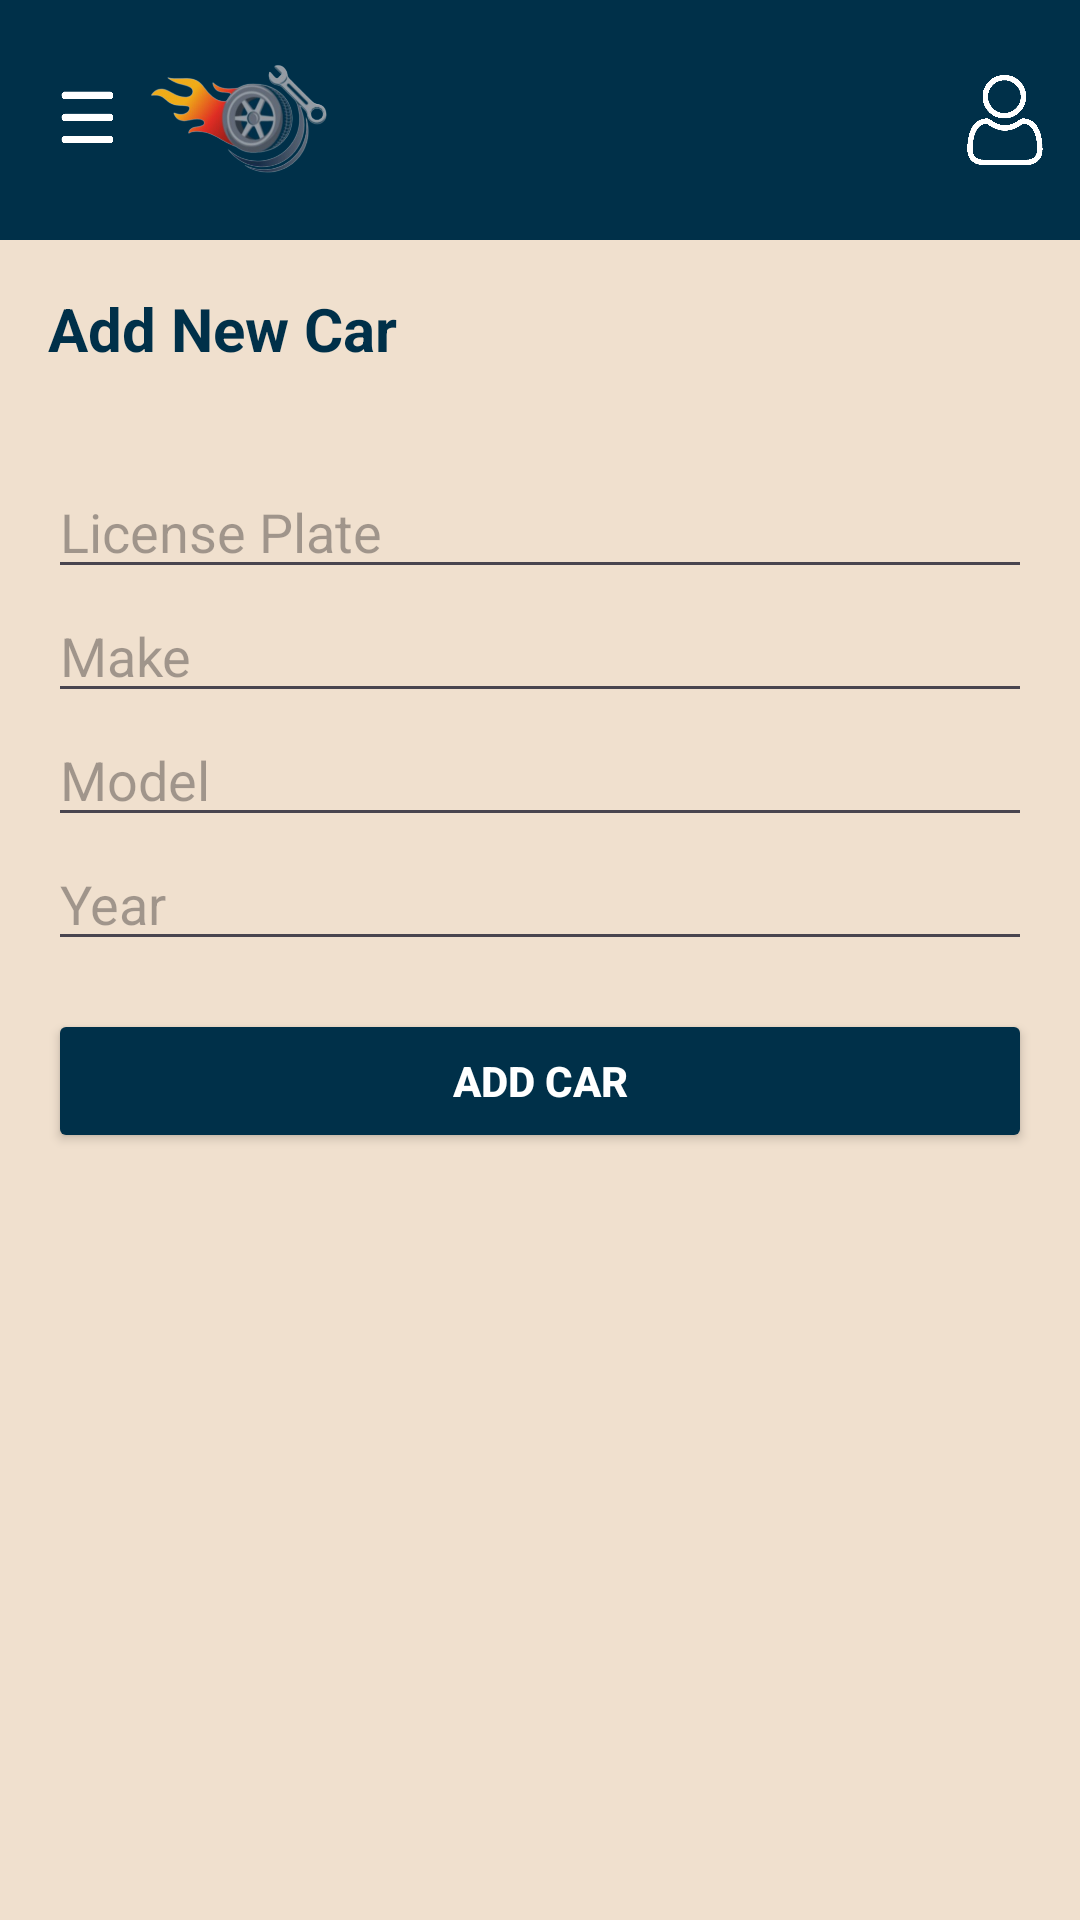

Icon bounding boxes for this 1080w x 1920h phone screenshot, format (x1, y1, x2, y2):
Navigation Icon: (61, 91, 113, 143)
Profile Icon: (967, 75, 1043, 165)
